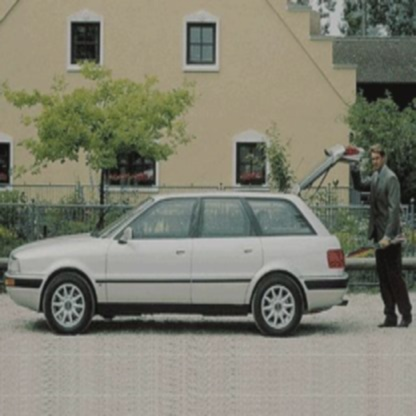Vehicle: (4, 149, 367, 341)
